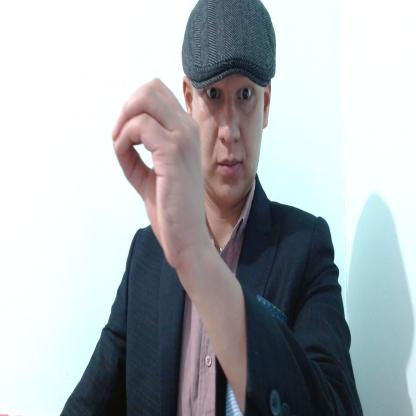O: (112, 72, 204, 267)
